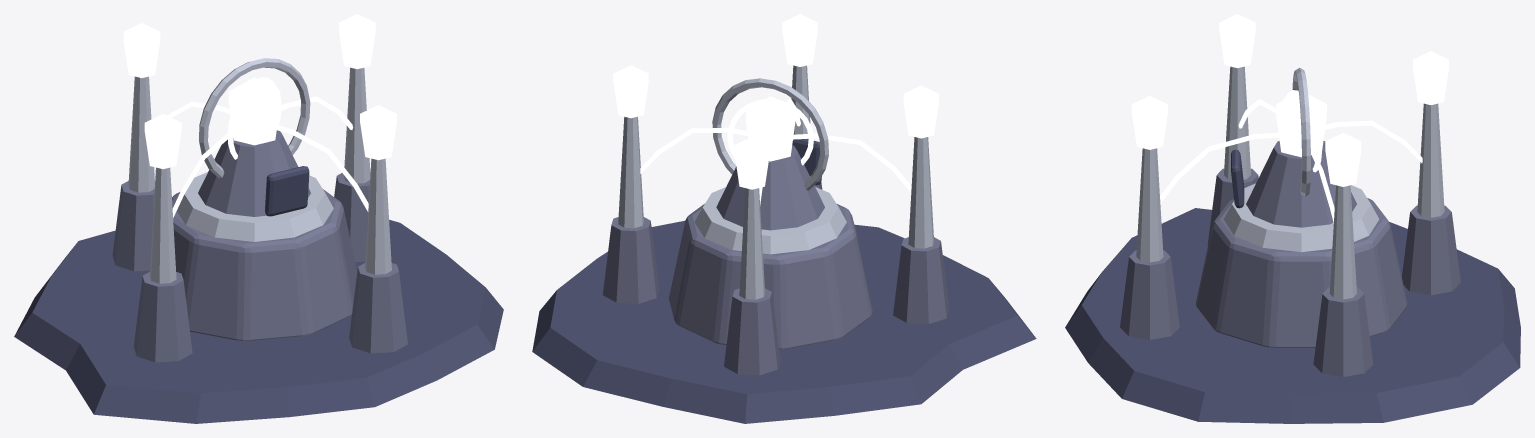
The model's file is thunder-highlands-lod0.glb.
3 views of the same model, side by side, from view 1: azimuth 30°, elevation 25°; view 2: azimuth 150°, elevation 25°; view 3: azimuth 270°, elevation 25° (orthographic). The views are drawn at different scales.
Parts seen in each view (by area): view 1: STONE_TERRAIN_SOCKET, STONE_OBSERVATORY_LOWER, STONE_OBSERVATORY_DOME, TRIM_OBSERVATORY_GALLERY, STONE_CONDUCTOR_BASE_3, STONE_CONDUCTOR_BASE_2, STONE_CONDUCTOR_BASE_1, FX_CORE, FX_RING_PRIMARY, METAL_CONDUCTOR_2, METAL_CONDUCTOR_3, METAL_CONDUCTOR_1 (+10 smaller); view 2: STONE_TERRAIN_SOCKET, STONE_OBSERVATORY_LOWER, STONE_OBSERVATORY_DOME, TRIM_OBSERVATORY_GALLERY, STONE_CONDUCTOR_BASE_1, STONE_CONDUCTOR_BASE_0, STONE_CONDUCTOR_BASE_2, FX_RING_PRIMARY, METAL_CONDUCTOR_1, METAL_CONDUCTOR_2, METAL_CONDUCTOR_0, FX_CORE (+9 smaller); view 3: STONE_TERRAIN_SOCKET, STONE_OBSERVATORY_LOWER, STONE_OBSERVATORY_DOME, STONE_CONDUCTOR_BASE_0, STONE_CONDUCTOR_BASE_1, STONE_CONDUCTOR_BASE_3, TRIM_OBSERVATORY_GALLERY, METAL_CONDUCTOR_3, METAL_CONDUCTOR_0, METAL_CONDUCTOR_1, METAL_CONDUCTOR_2, FX_CORE (+10 smaller).
Part boxes in pixels (bbox=[...]): STONE_TERRAIN_SOCKET: bbox=[14, 219, 503, 423]; STONE_OBSERVATORY_LOWER: bbox=[172, 189, 357, 340]; STONE_OBSERVATORY_DOME: bbox=[198, 130, 310, 216]; TRIM_OBSERVATORY_GALLERY: bbox=[177, 172, 333, 241]; STONE_CONDUCTOR_BASE_3: bbox=[349, 263, 407, 353]; STONE_CONDUCTOR_BASE_2: bbox=[133, 272, 192, 362]; STONE_CONDUCTOR_BASE_1: bbox=[112, 181, 154, 271]; FX_CORE: bbox=[228, 77, 280, 145]; FX_RING_PRIMARY: bbox=[199, 58, 310, 178]; METAL_CONDUCTOR_2: bbox=[149, 167, 176, 283]; METAL_CONDUCTOR_3: bbox=[365, 158, 391, 274]; METAL_CONDUCTOR_1: bbox=[128, 76, 154, 192]; STONE_TERRAIN_SOCKET: bbox=[532, 220, 1036, 423]; STONE_OBSERVATORY_LOWER: bbox=[669, 203, 872, 349]; STONE_OBSERVATORY_DOME: bbox=[716, 145, 824, 230]; TRIM_OBSERVATORY_GALLERY: bbox=[694, 187, 846, 254]; STONE_CONDUCTOR_BASE_1: bbox=[724, 288, 780, 375]; STONE_CONDUCTOR_BASE_0: bbox=[603, 217, 659, 303]; STONE_CONDUCTOR_BASE_2: bbox=[893, 237, 949, 324]; FX_RING_PRIMARY: bbox=[712, 78, 828, 190]; METAL_CONDUCTOR_1: bbox=[739, 188, 764, 299]; METAL_CONDUCTOR_2: bbox=[908, 137, 934, 248]; METAL_CONDUCTOR_0: bbox=[618, 116, 643, 228]; FX_CORE: bbox=[746, 96, 795, 161]; STONE_TERRAIN_SOCKET: bbox=[1065, 208, 1520, 423]; STONE_OBSERVATORY_LOWER: bbox=[1195, 198, 1407, 347]; STONE_OBSERVATORY_DOME: bbox=[1246, 141, 1356, 227]; STONE_CONDUCTOR_BASE_0: bbox=[1313, 287, 1373, 376]; STONE_CONDUCTOR_BASE_1: bbox=[1401, 205, 1460, 295]; STONE_CONDUCTOR_BASE_3: bbox=[1120, 250, 1179, 339]; TRIM_OBSERVATORY_GALLERY: bbox=[1223, 183, 1379, 252]; METAL_CONDUCTOR_3: bbox=[1136, 148, 1163, 262]; METAL_CONDUCTOR_0: bbox=[1329, 185, 1356, 299]; METAL_CONDUCTOR_1: bbox=[1417, 103, 1444, 217]; METAL_CONDUCTOR_2: bbox=[1224, 66, 1250, 179]; FX_CORE: bbox=[1276, 92, 1326, 157].
Size of the model in its own units: 1.71 by 1.01 by 1.64.
